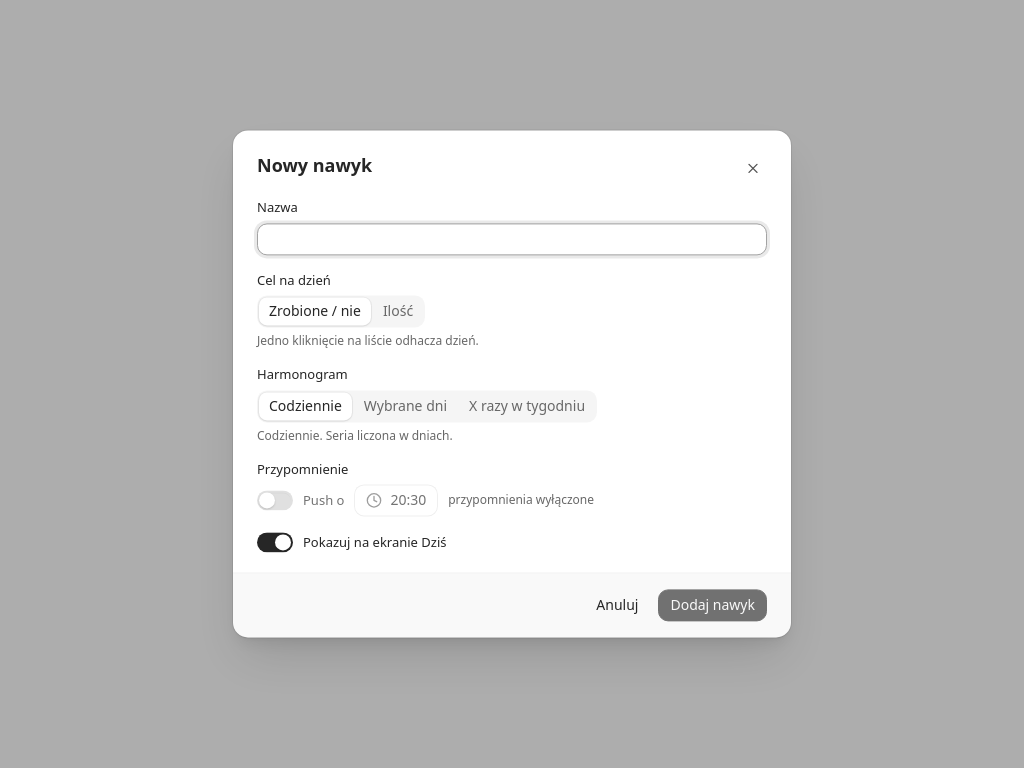
Test: HabitDialog › błąd zostawia okno otwarte z komunikatem, w trakcie zapisu Anuluj jest zablokowany
The width and height of the screenshot is (1024, 768).
Type "Woda" into the field labelled "Nazwa".
click(512, 239); type("Woda")  # box [257,223,767,255]
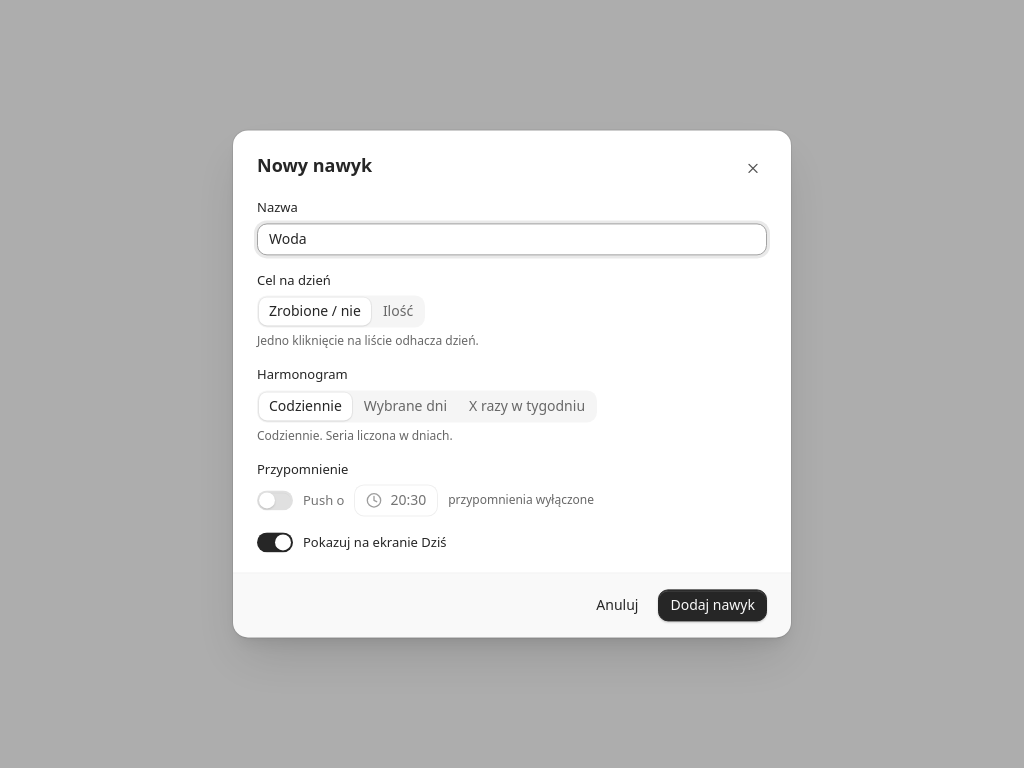
Click the button "Dodaj nawyk".
click(713, 606)  # box [658,590,767,622]
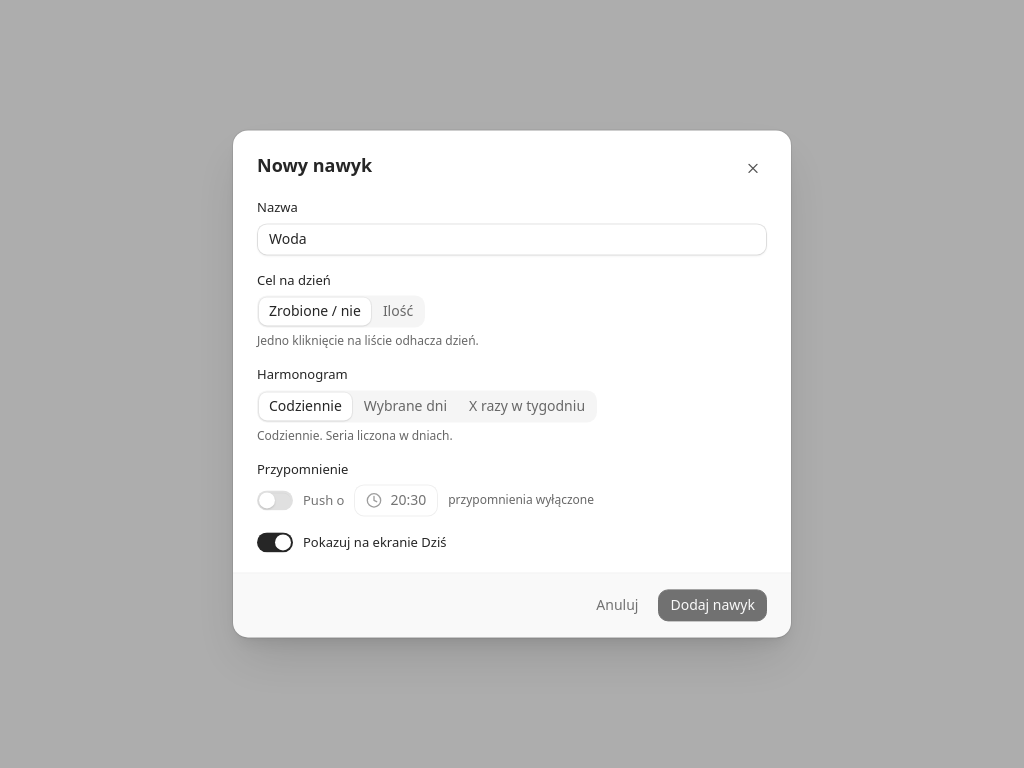
Now the button "Anuluj" is disabled, box [584,590,650,622]
Press Escape
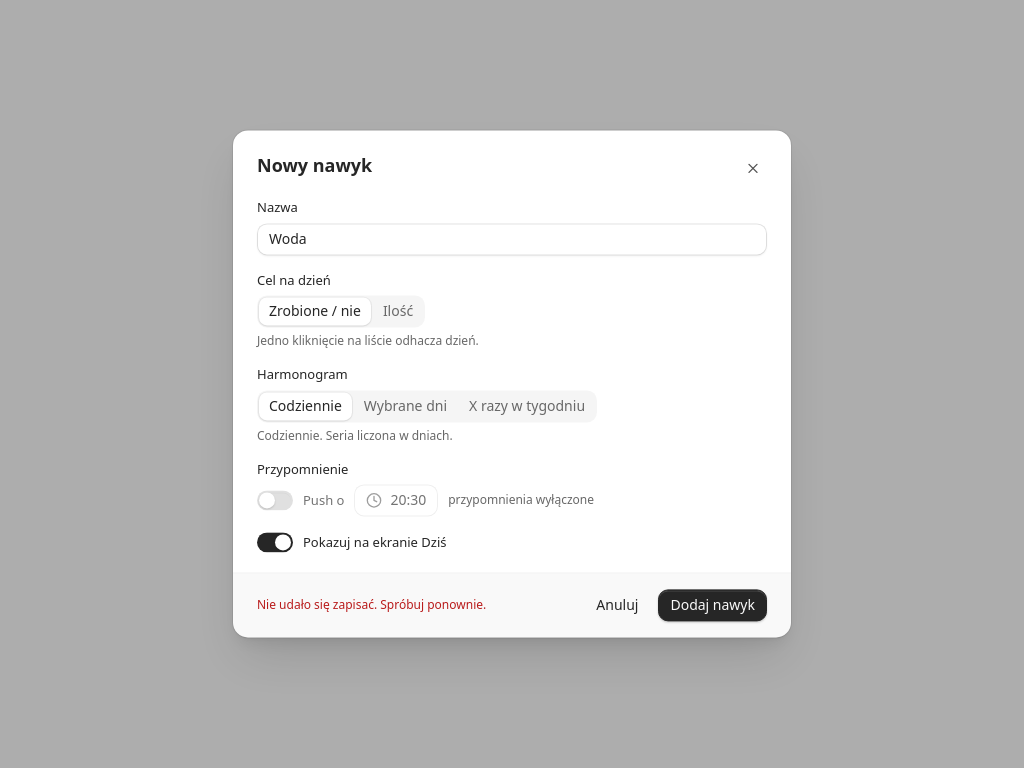
Now the message reads "Nie udało się zapisać. Spróbuj ponownie.", box [257,597,486,614]
Now the button "Anuluj" is enabled, box [584,590,650,622]
